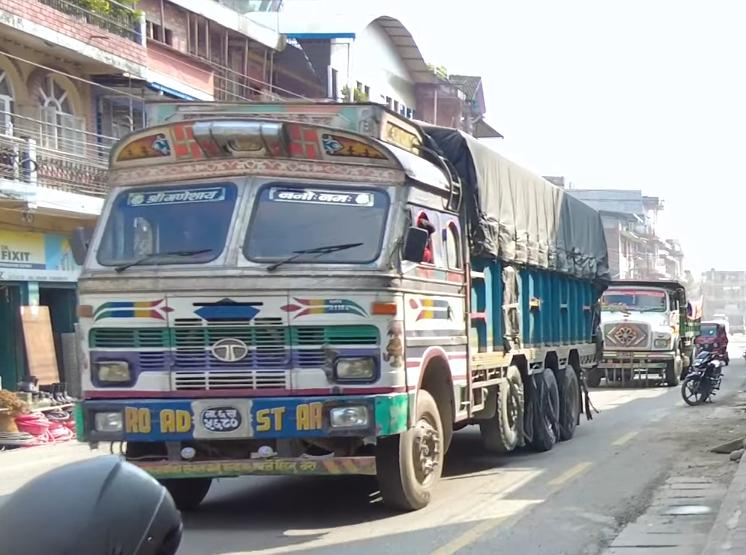bike: (680, 349, 725, 405)
truck: (72, 99, 611, 512), (588, 278, 699, 387)
